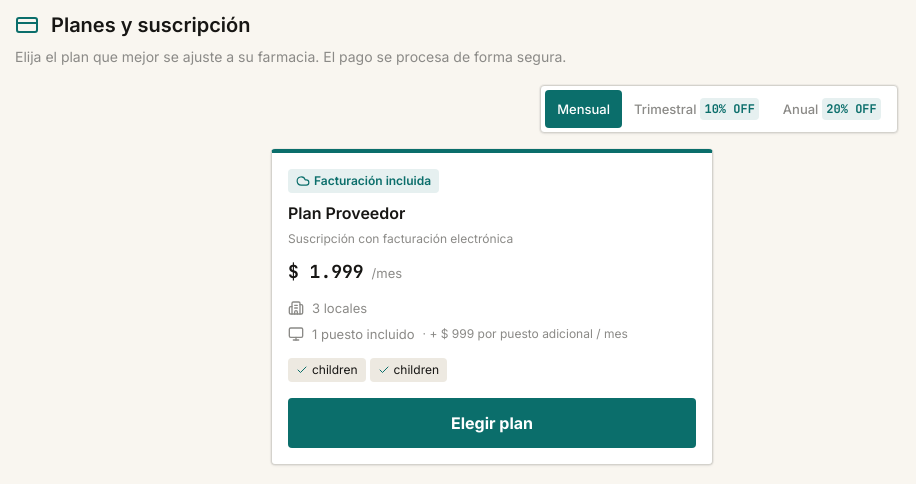
Test: PlanCatalog › pricing › renders the discounted annual price after switching period
The image size is (916, 484).
Click the radio button labelled "Anual 20% OFF": (832, 109) 771,90 -> 893,128
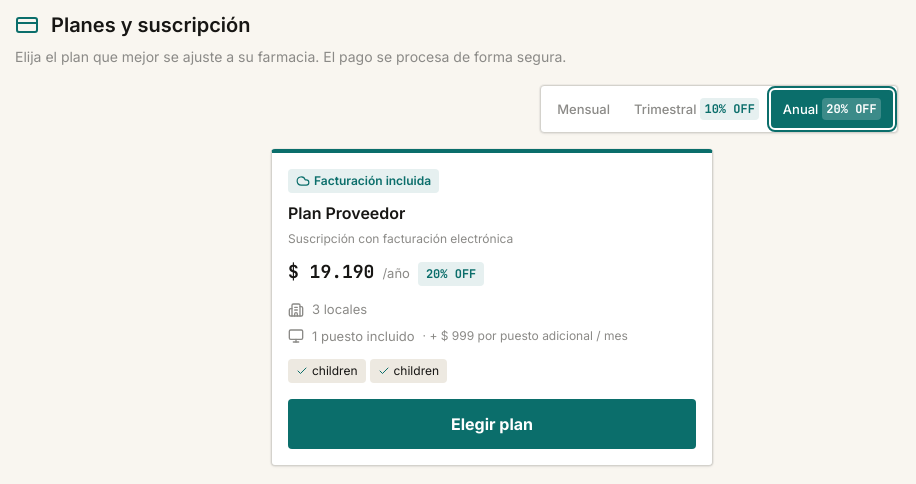
Check: the 1st text "20% OFF" is shown, box 822,98 -> 881,120
Check: the text "$ 19.190" is shown, box 288,261 -> 374,284
Check: the text "/año" is shown, box 382,262 -> 410,285
